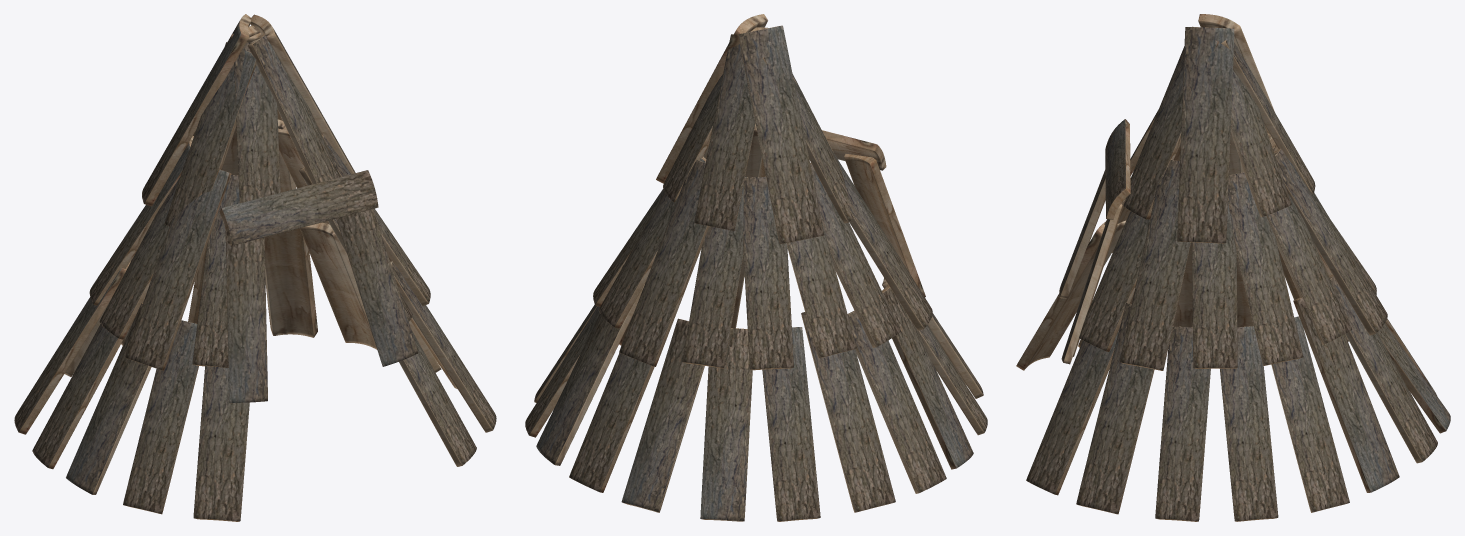
Rendered from Tent.fbx.
3 views of the same model, side by side, from view 1: azimuth 30°, elevation 25°; view 2: azimuth 150°, elevation 25°; view 3: azimuth 270°, elevation 25° (orthographic).
Parts seen in each view (by area): view 1: Tent; view 2: Tent; view 3: Tent.
Boxes of the visible parts, box(x1,y1,x2,y2) form: Tent: box(14, 14, 496, 521); Tent: box(525, 14, 987, 521); Tent: box(1016, 14, 1450, 521).
Size of the model in its own units: 892 by 874 by 842.
1 material, 1 textured.
